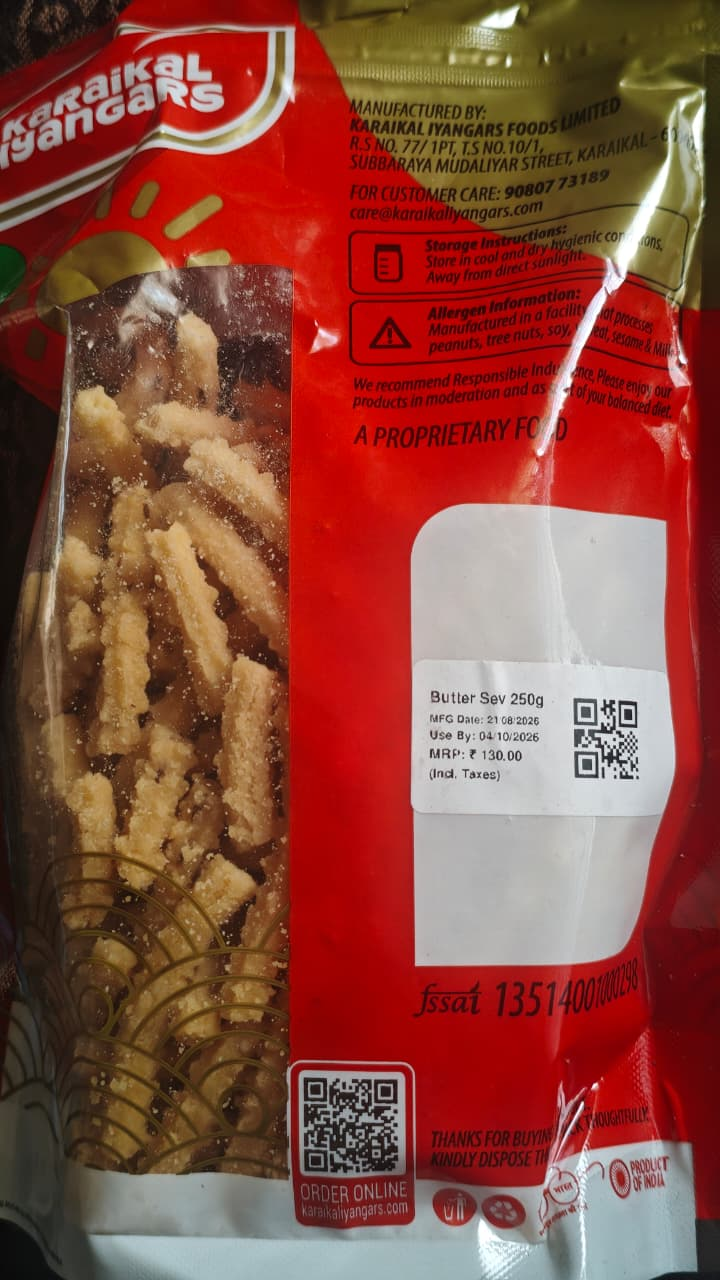Brand: (0, 46, 279, 156)
EXP_Date: (428, 729, 544, 746)
MFG_Date: (430, 712, 542, 730)
MRP: (426, 745, 528, 763)
